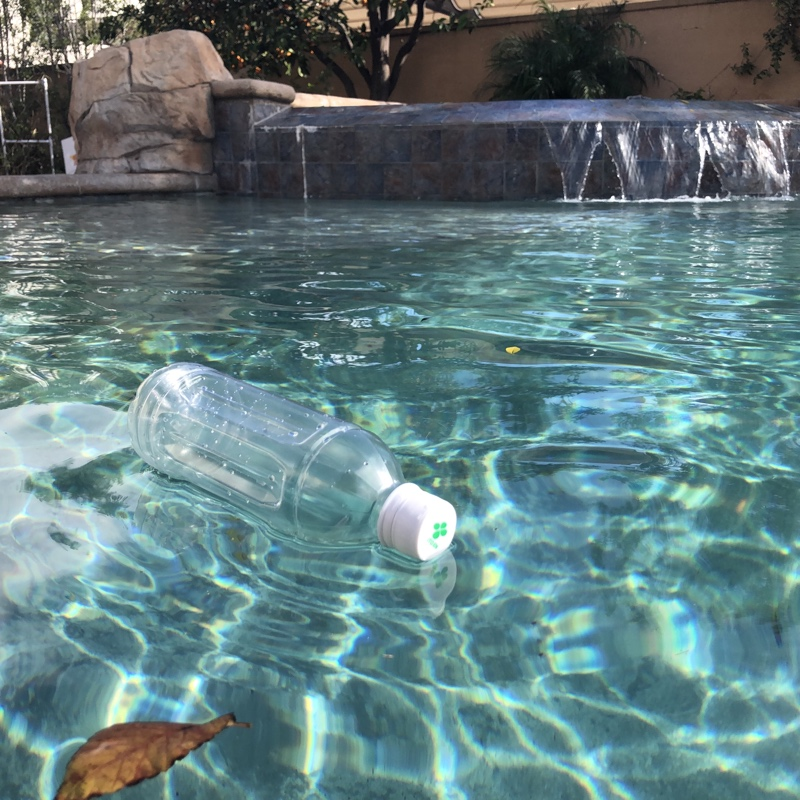Plastic Bottle: (125, 356, 461, 572)
